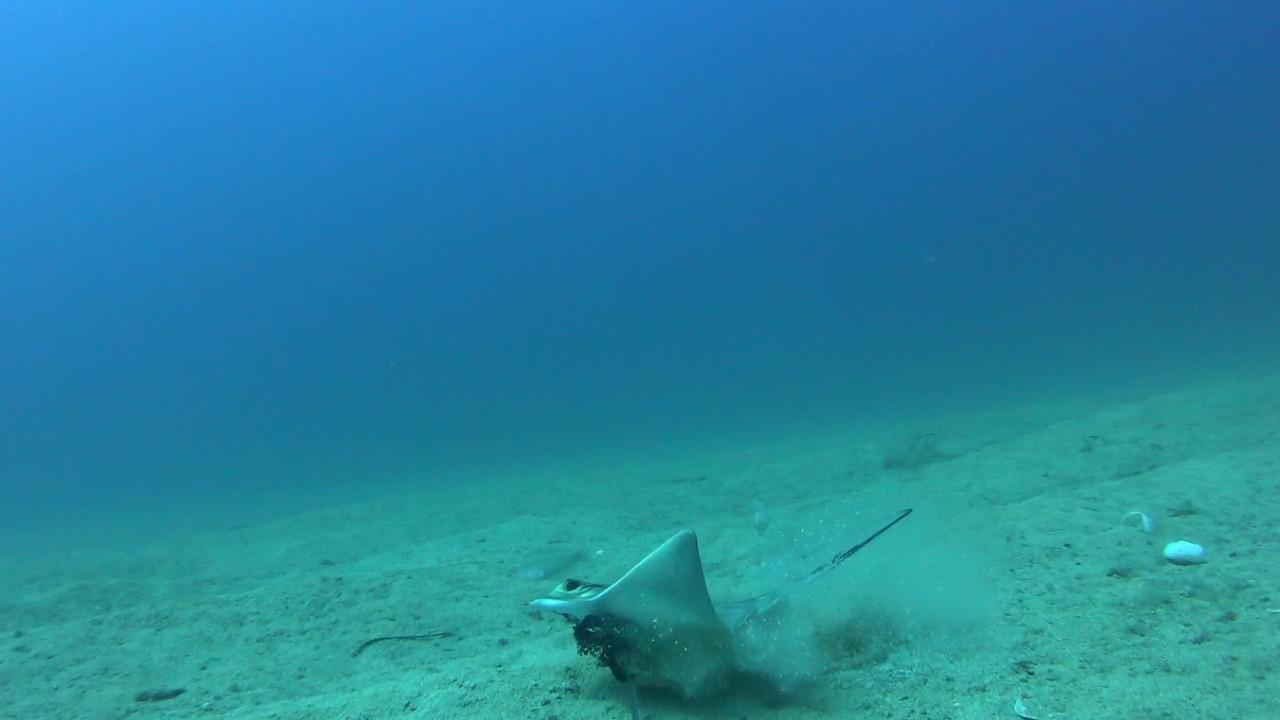myliobatis: (501, 483, 956, 672)
